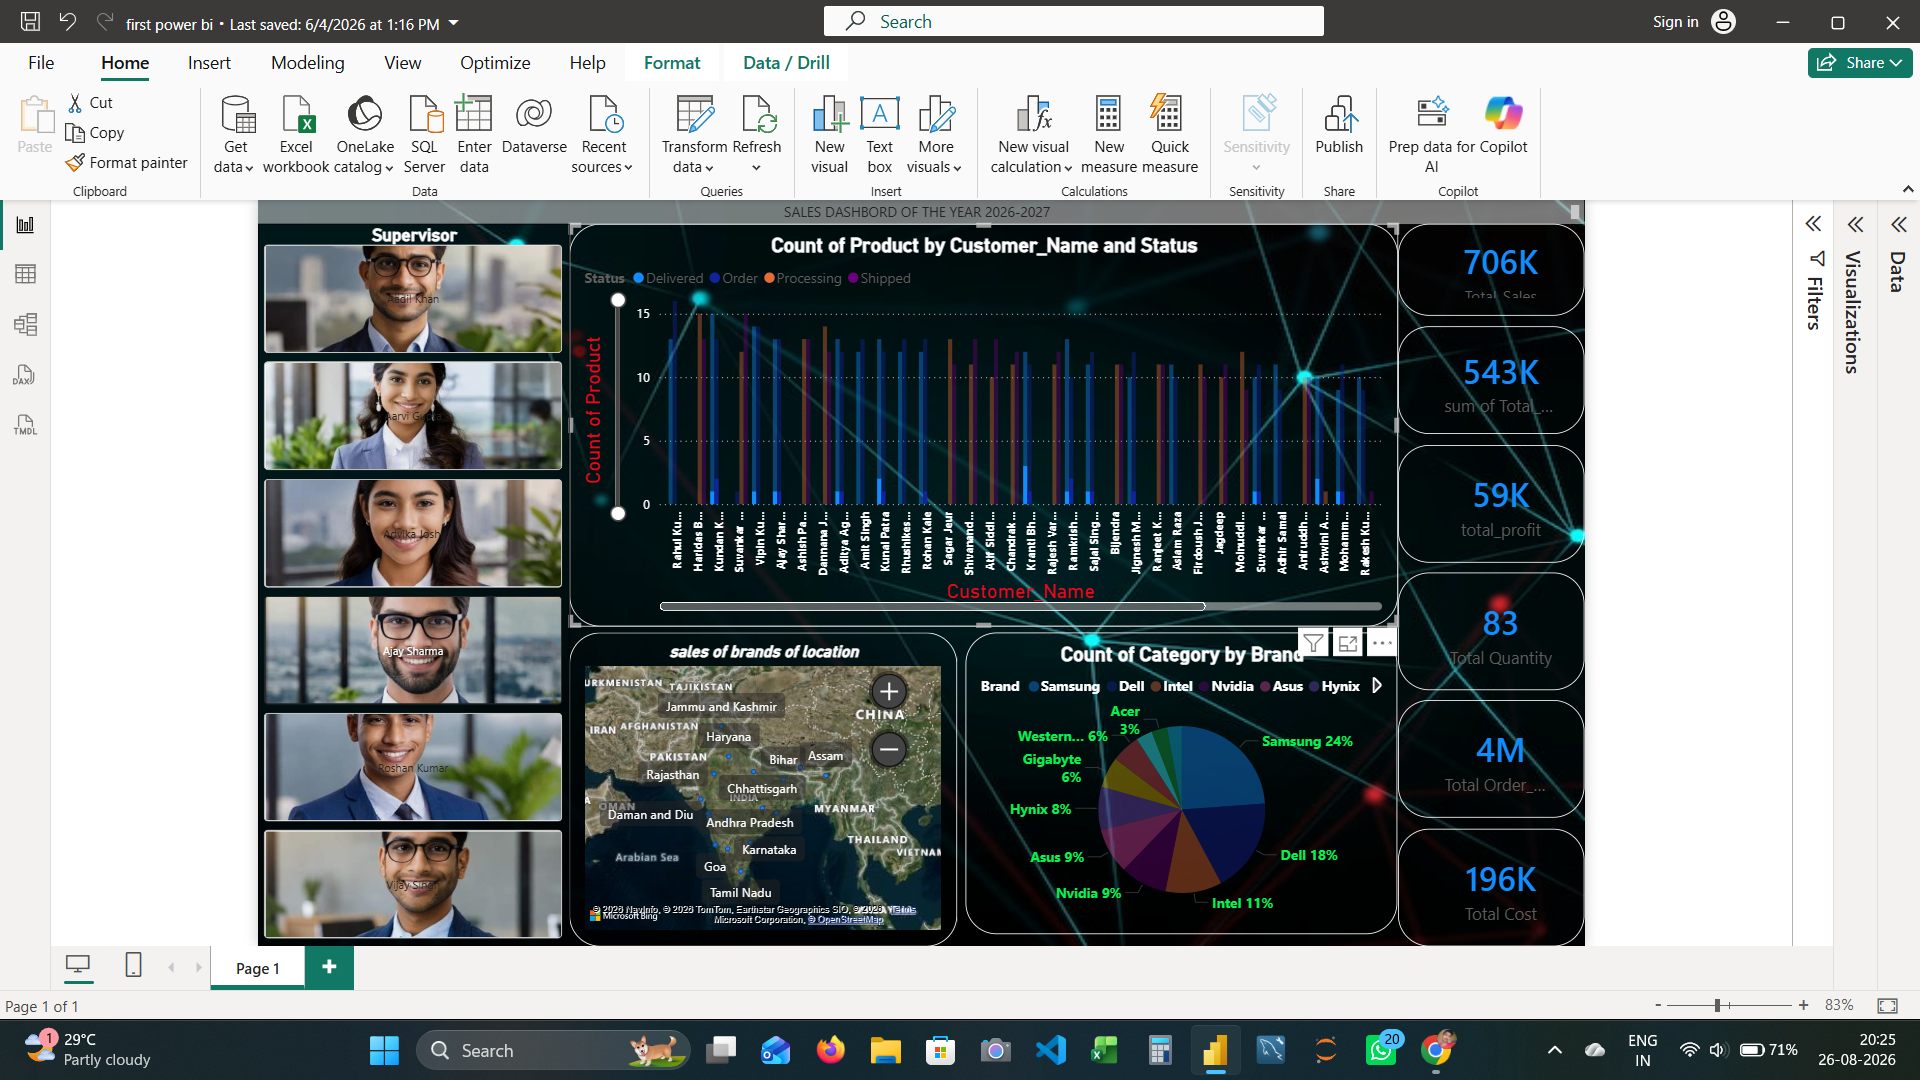

The dashboard page shown, as its layout file describes it:
{"tool":"powerbi","page":{"name":"Page 1","canvas":[1280,720],"ordinal":0},"visuals":[{"type":"cardVisual","fields":{"Data":["Sum(Sales_Data.Total_Sales)"]},"box":[1100.5,23.3,179.8,89.2],"z":0},{"type":"cardVisual","fields":{"Data":["Sum(Sales_Data.Total_Cost)"]},"box":[1100.5,122.1,179.8,104.3],"z":1000},{"type":"cardVisual","fields":{"Data":["Sales_Data.total_profit"]},"box":[1100.5,236,179.8,113.9],"z":2000},{"type":"cardVisual","fields":{"Data":["Sum(Sales_Data.Quantity)"]},"box":[1100.5,359.5,179.8,113.9],"z":3000},{"type":"cardVisual","fields":{"Data":["Sum(Sales_Data.Order_Number)"]},"box":[1100.5,483,179.8,113.9],"z":4000},{"type":"cardVisual","fields":{"Data":["Sum(Sales_Data.Cost)"]},"box":[1100.5,606.5,179.8,113.9],"z":5000},{"type":"clusteredColumnChart","fields":{"Category":["Sales_Data.Customer_Name"],"Y":["CountNonNull(Sales_Data.Product)"],"Series":["Sales_Data.Status"]},"box":[300,22.9,800,388.6],"z":6000},{"type":"textbox","box":[0,0,1280.3,23.3],"z":7000},{"type":"pieChart","fields":{"Y":["CountNonNull(Sales_Data.Category)"],"Category":["Sales_Data.Brand"]},"box":[682.9,417.1,417.1,291.4],"z":8000},{"type":"map","title":"sales of brands of location","fields":{"Category":["State_list.State"],"Y":["Avg(Sales_Data.Sales)"],"X":["Min(Sales_Data.Product)"]},"box":[300,417.1,374.3,302.9],"z":9000},{"type":"advancedSlicerVisual","fields":{"Values":["Supervisor.Supervisor"]},"box":[0,23.3,300.5,697.1],"z":10000}]}

Visuals, with their boxes in screenshot pixels (x1, y1, x2, y2):
cardVisual - Sum(Sales_Data.Total_Sales): 1580,33,1837,161
cardVisual - Sum(Sales_Data.Total_Cost): 1580,174,1837,323
cardVisual - Sales_Data.total_profit: 1580,337,1837,499
cardVisual - Sum(Sales_Data.Quantity): 1580,513,1837,675
cardVisual - Sum(Sales_Data.Order_Number): 1580,689,1837,852
cardVisual - Sum(Sales_Data.Cost): 1580,865,1837,1028
clusteredColumnChart - Sales_Data.Customer_Name x CountNonNull(Sales_Data.Product): 438,33,1580,587
textbox: 10,0,1837,33
pieChart - CountNonNull(Sales_Data.Category) x Sales_Data.Brand: 984,595,1580,1011
"sales of brands of location" map: 438,595,972,1027
advancedSlicerVisual - Supervisor.Supervisor: 10,33,439,1028
